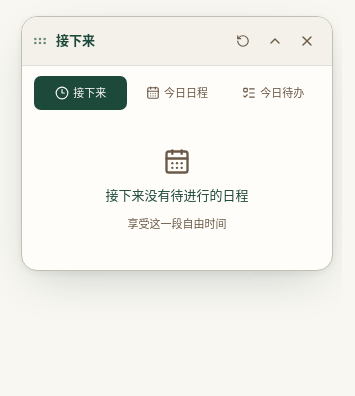
Test case: floating schedule window › offers useful empty states in every view
The width and height of the screenshot is (355, 396).
Expected: the text "接下来没有待进行的日程" is shown, [106,186,248,206]
Click the button "今日日程".
click(177, 93)  # box [130,76,224,110]
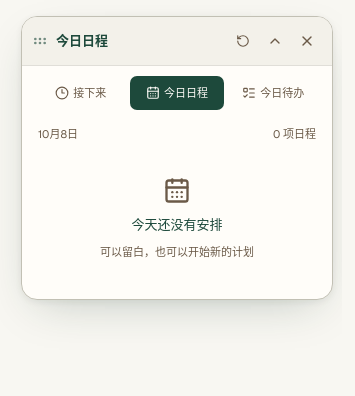
Expected: the text "今天还没有安排" is shown, [132,214,222,234]
Click the button "今日待办".
click(273, 93)  # box [227,76,320,110]
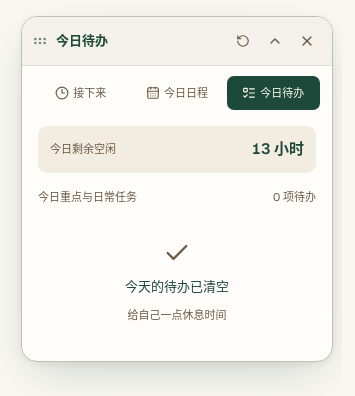
Expected: the text "今天的待办已清空" is shown, [125,277,229,296]
